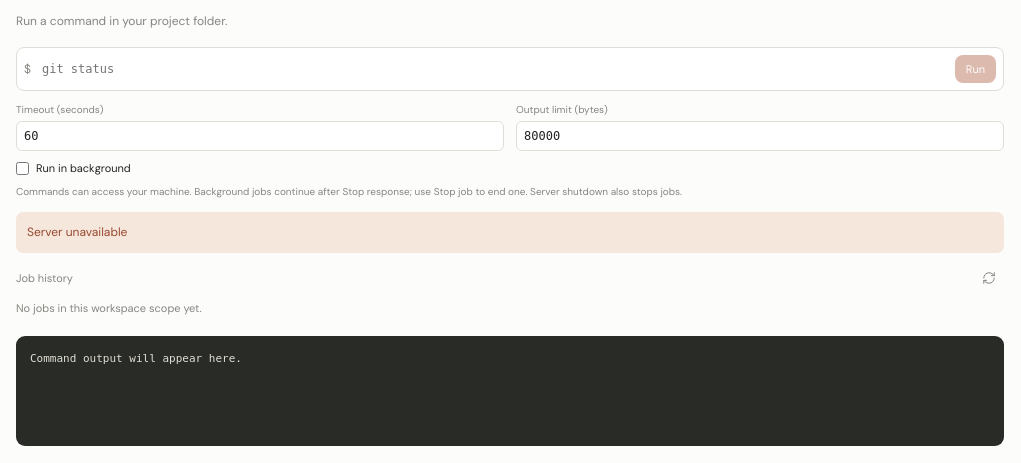
Test case: stops polling on error until an explicit refresh
Expected: the message reads "Server unavailable", x1=27 y1=224 x2=127 y2=240
Click the button named "Refresh jobs": (989, 278) x1=974 y1=263 x2=1004 y2=293
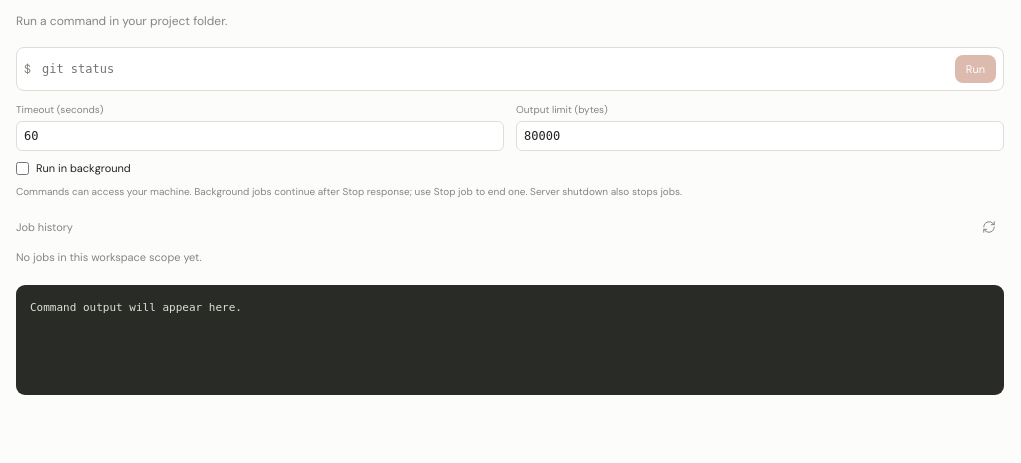
Expected: the message "Server unavailable" is gone
